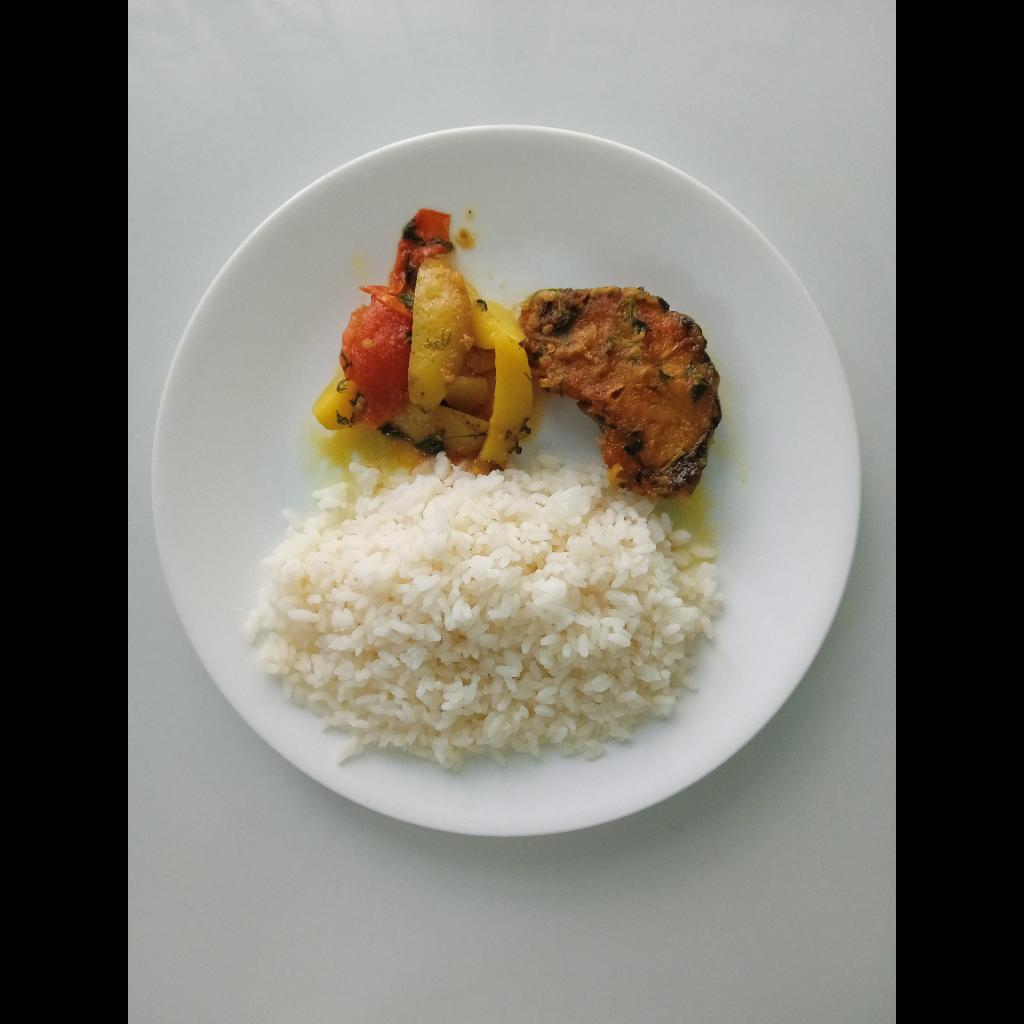fish: (517, 285, 724, 503)
potato: (310, 206, 533, 470)
rice: (242, 455, 722, 771)
